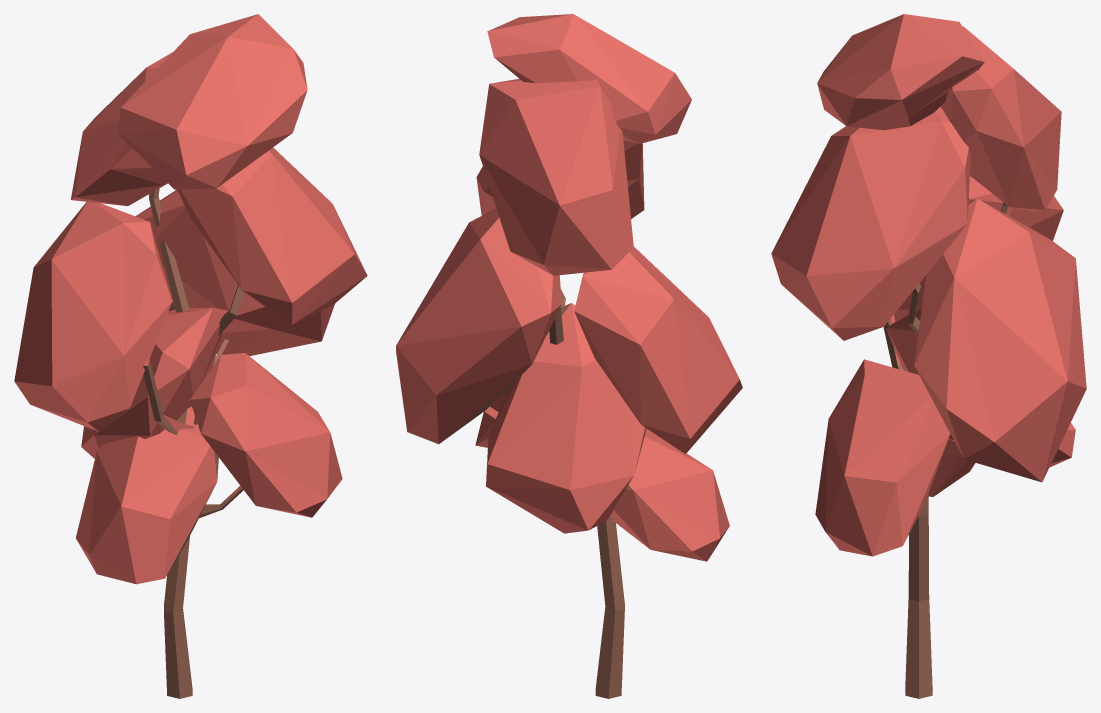
The model's file is tree_R.fbx.
3 views of the same model, side by side, from view 1: azimuth 30°, elevation 25°; view 2: azimuth 150°, elevation 25°; view 3: azimuth 270°, elevation 25° (orthographic). The views are drawn at different scales.
Visible parts, largest first — view 1: Tree_Type5_03; view 2: Tree_Type5_03; view 3: Tree_Type5_03.
Part boxes in pixels (box(x1,y1,x2,y2)): Tree_Type5_03: box(14, 14, 367, 698); Tree_Type5_03: box(396, 14, 742, 698); Tree_Type5_03: box(771, 14, 1086, 698).
Bounding box in the file's own units: 310 × 639 × 261.
